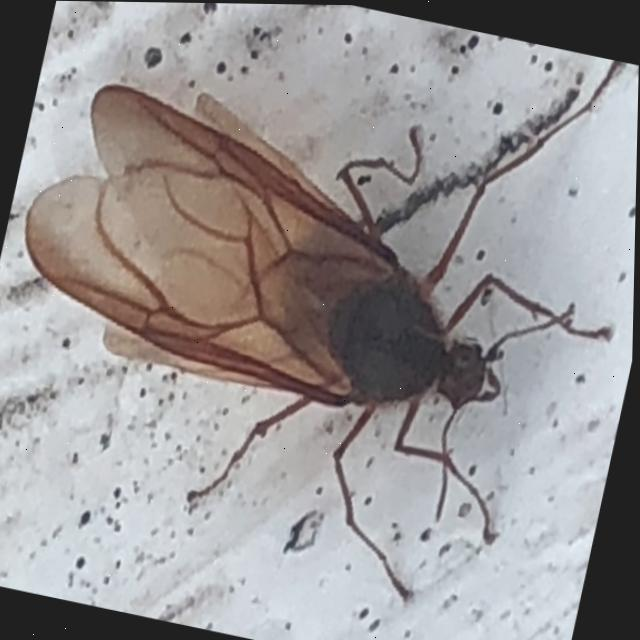Alive-Male-Alate: (0, 0, 640, 634)
